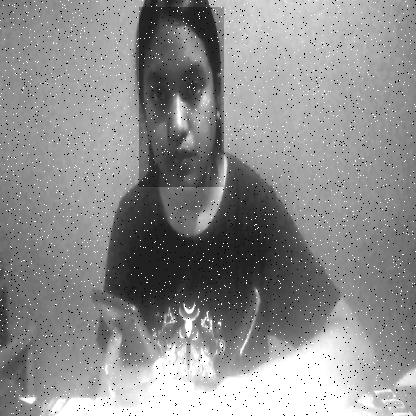Normal: (139, 7, 224, 187)
